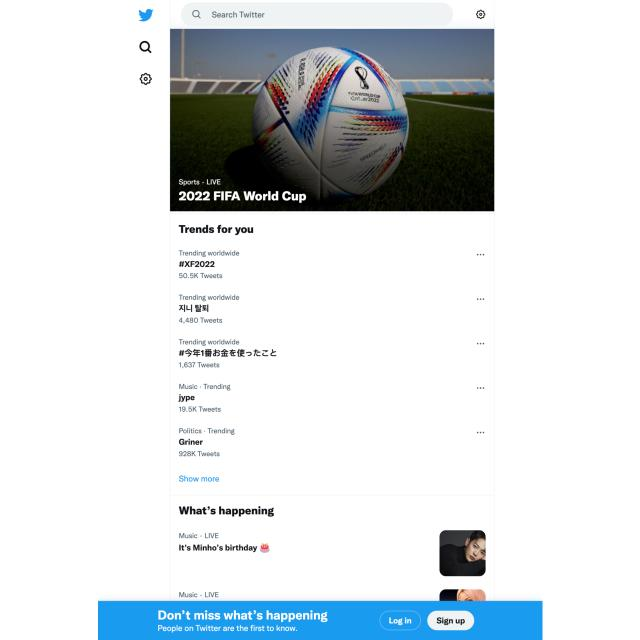input: (180, 1, 454, 27)
logo: (135, 4, 156, 26)
